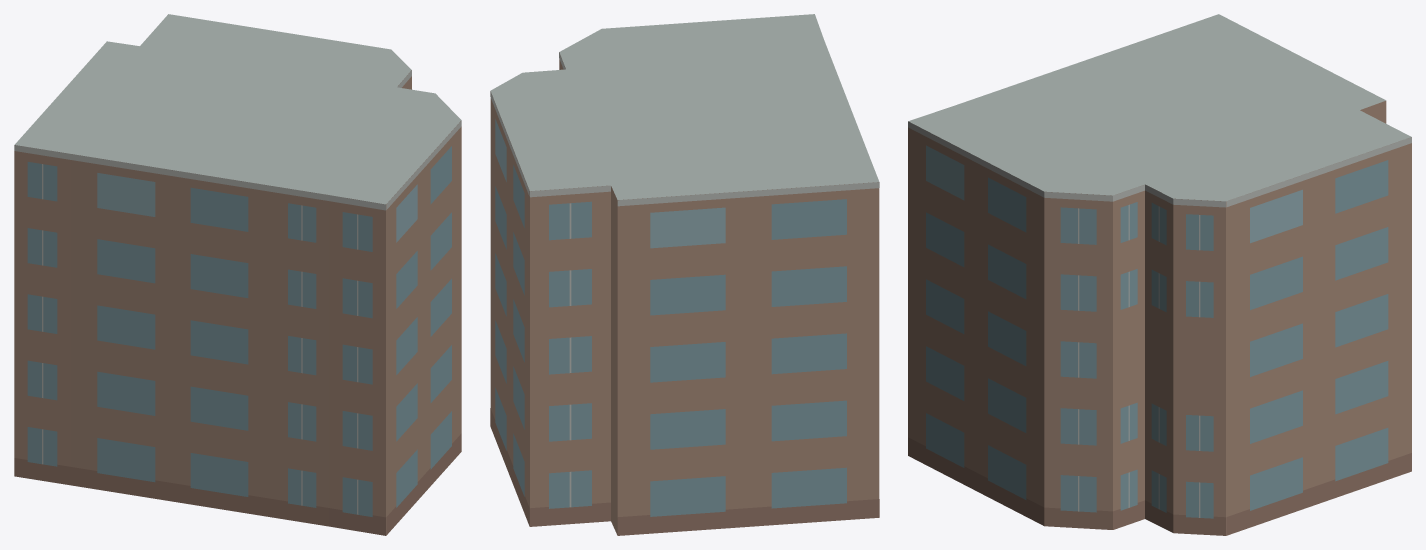
File: survey-upis-32637410.glb
3 renders of one model, left to right at view 1: azimuth 30°, elevation 25°; view 2: azimuth 150°, elevation 25°; view 3: azimuth 270°, elevation 25°, orthographic.
Visible parts, largest first — view 1: survey-upis-32637410.tmp; view 2: survey-upis-32637410.tmp; view 3: survey-upis-32637410.tmp.
Part boxes in pixels (x1,y1,x2,y2): survey-upis-32637410.tmp: (14, 14, 461, 535); survey-upis-32637410.tmp: (490, 14, 879, 535); survey-upis-32637410.tmp: (908, 14, 1411, 535).
Bounding box in the file's own units: 15.99 × 13.3 × 18.16.
